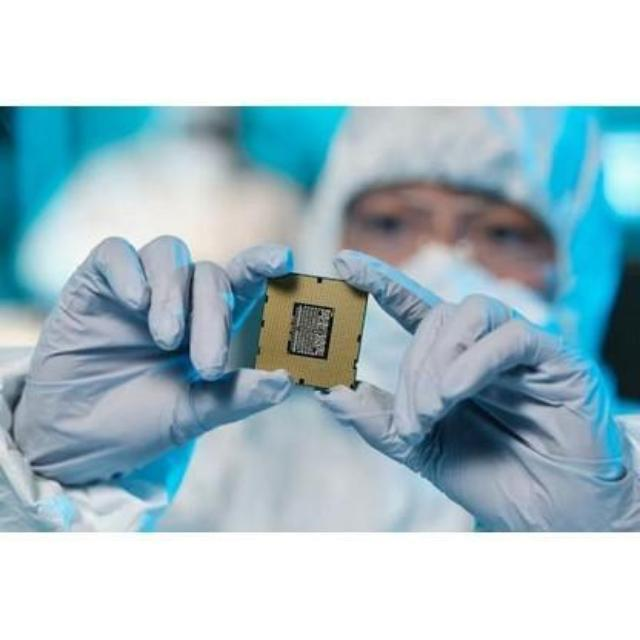CPU: (250, 270, 372, 393)
